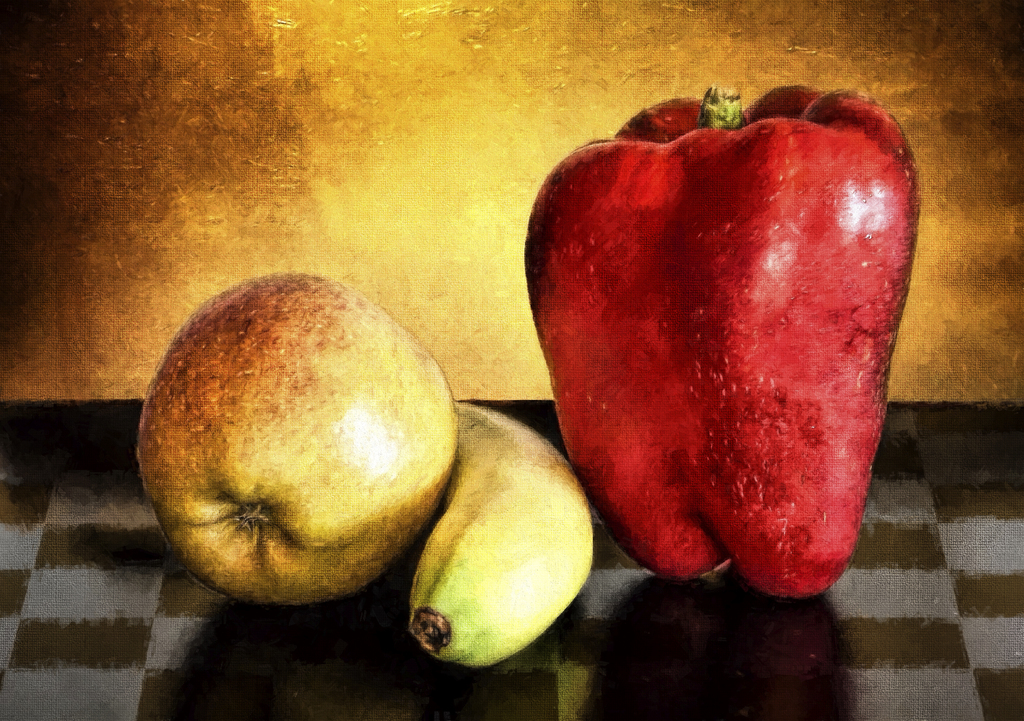Apple: (136, 271, 457, 604)
